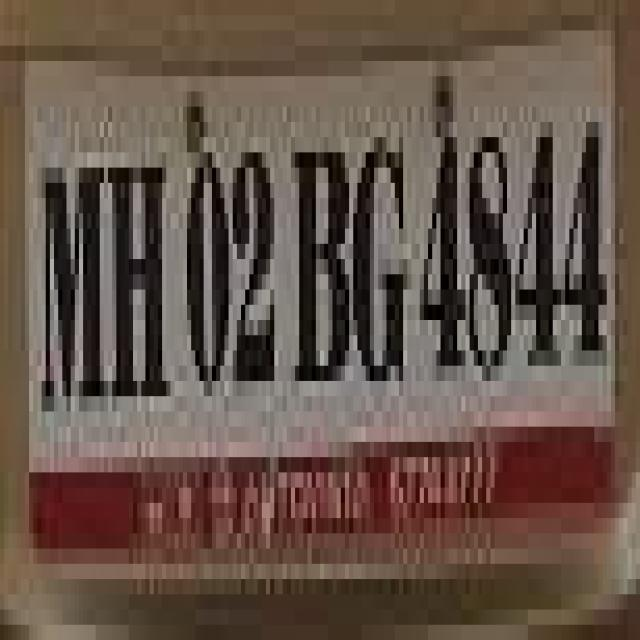license_plate: (0, 16, 615, 534)
